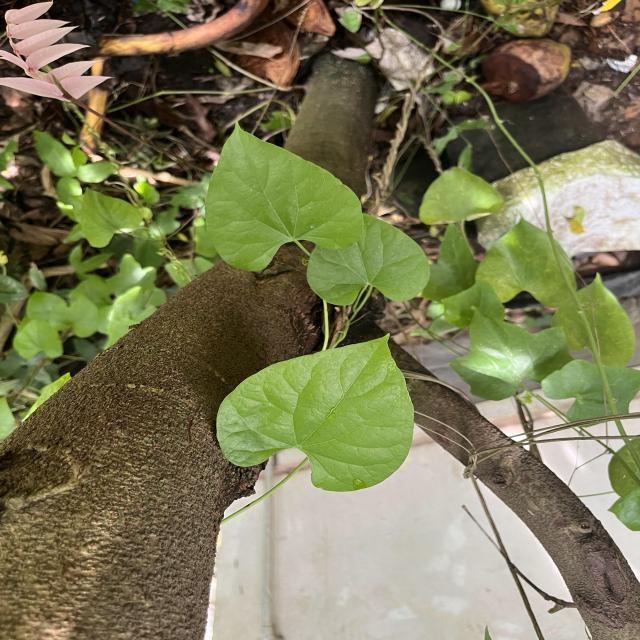Tinospora cordifolia: (213, 330, 417, 495), (202, 118, 366, 274), (304, 212, 434, 309)
